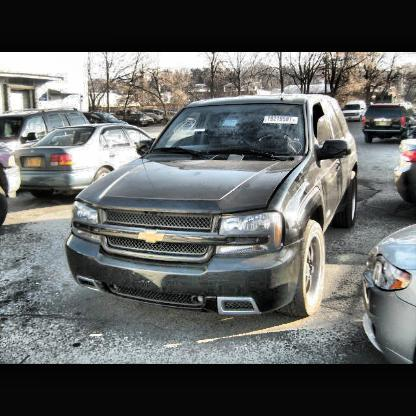Chevrolet TrailBlazer SS 2009: (67, 96, 362, 317)
